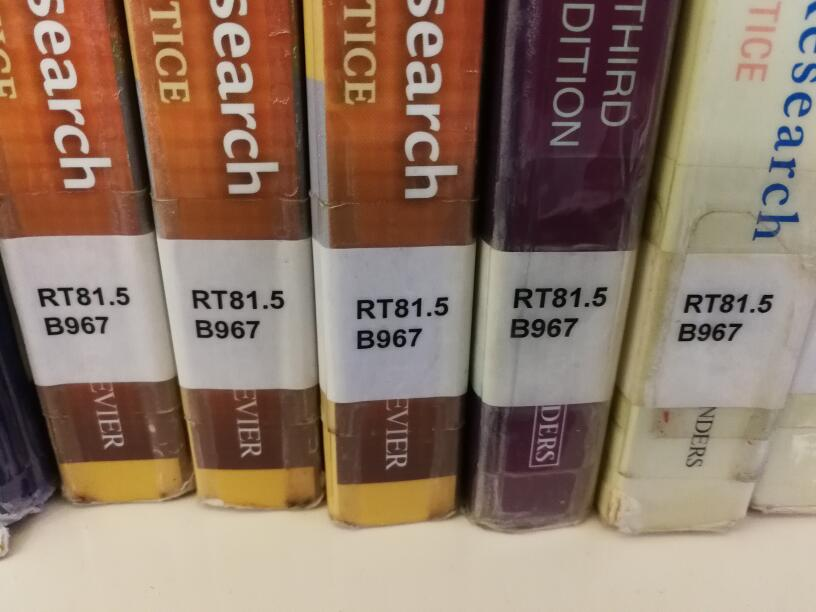booklabel: (508, 285, 610, 343), (350, 295, 450, 350), (35, 284, 134, 337), (188, 287, 287, 339), (677, 290, 774, 343)
